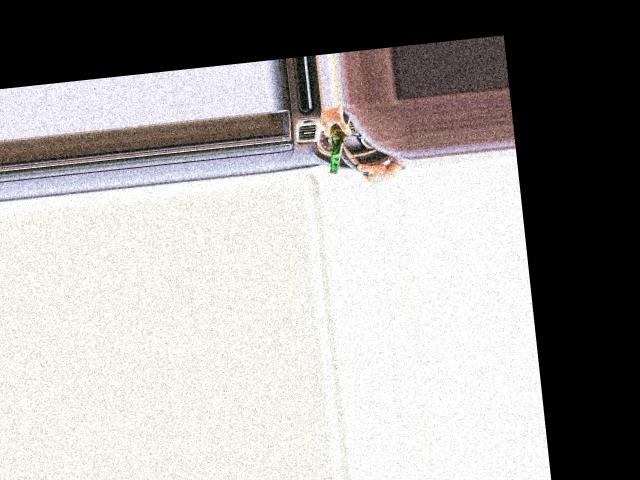beer: (322, 109, 356, 174)
